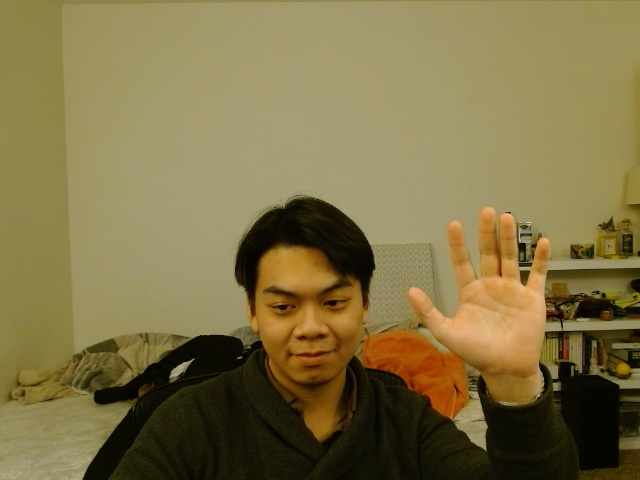Hello: (402, 202, 558, 377)
